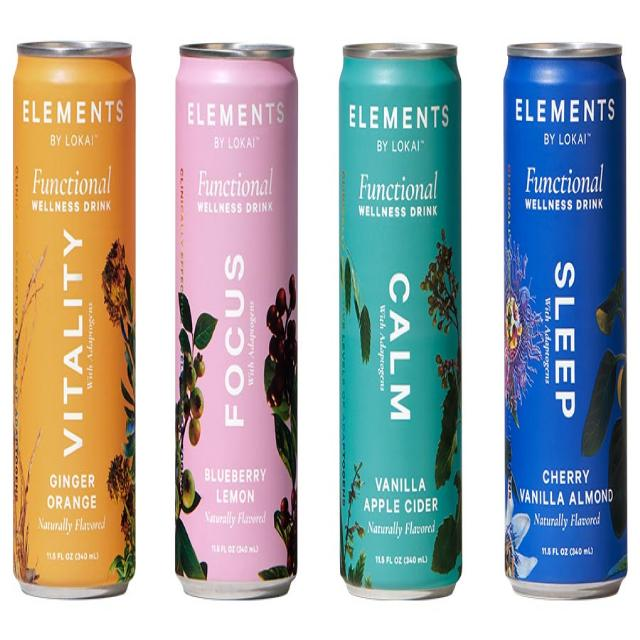Cans: (332, 34, 468, 603), (172, 37, 302, 603), (501, 37, 629, 602), (12, 36, 138, 601)
